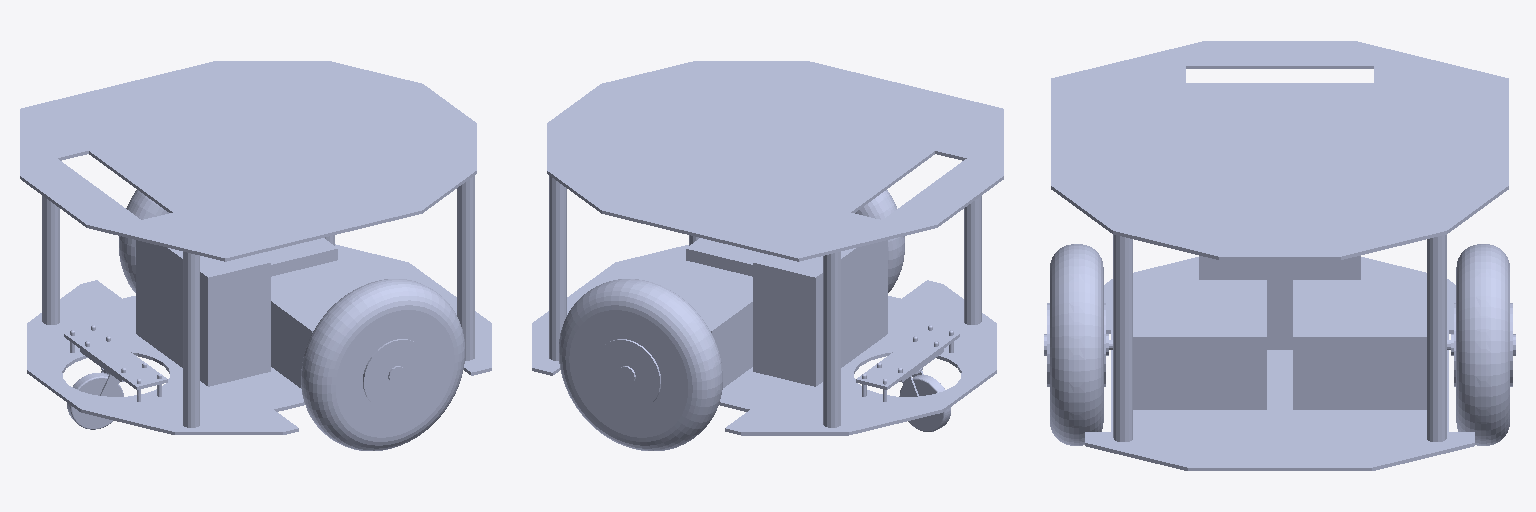
URDF robot description (mobilerobot):
<?xml version="1.0" encoding="utf-8"?>
<!-- This URDF was automatically created by SolidWorks to URDF Exporter! Originally created by [author] ([email redacted]) 
     Commit Version: 1.6.0-1-g15f4949  Build Version: 1.6.7594.29634
     For more information, please see http://wiki.ros.org/sw_urdf_exporter -->
<robot
  name="mobilerobot">
  <link
    name="base_footprint_link">
    <inertial>
      <origin
        xyz="-0.0036066 5.5174E-07 0.096184"
        rpy="0 0 0" />
      <mass
        value="2.7711" />
      <inertia
        ixx="0.0077982"
        ixy="3.97E-09"
        ixz="-1.2658E-07"
        iyy="0.0082705"
        iyz="1.7767E-08"
        izz="0.013496" />
    </inertial>
    <visual>
      <origin
        xyz="0 0 0"
        rpy="0 0 0" />
      <geometry>
        <mesh
          filename="package://mobilerobot/meshes/base_footprint_link.STL" />
      </geometry>
      <material
        name="">
        <color
          rgba="0.79216 0.81961 0.93333 1" />
      </material>
    </visual>
    <collision>
      <origin
        xyz="0 0 0"
        rpy="0 0 0" />
      <geometry>
        <mesh
          filename="package://mobilerobot/meshes/base_footprint_link.STL" />
      </geometry>
    </collision>
  </link>
  <link
    name="base_link">
    <inertial>
      <origin
        xyz="-0.0036066 5.5174E-07 0.053637"
        rpy="0 0 0" />
      <mass
        value="2.7711" />
      <inertia
        ixx="0.0077982"
        ixy="3.97E-09"
        ixz="-1.2658E-07"
        iyy="0.0082705"
        iyz="1.7767E-08"
        izz="0.013496" />
    </inertial>
    <visual>
      <origin
        xyz="0 0 0"
        rpy="0 0 0" />
      <geometry>
        <mesh
          filename="package://mobilerobot/meshes/base_link.STL" />
      </geometry>
      <material
        name="">
        <color
          rgba="0.79216 0.81961 0.93333 1" />
      </material>
    </visual>
    <collision>
      <origin
        xyz="0 0 0"
        rpy="0 0 0" />
      <geometry>
        <mesh
          filename="package://mobilerobot/meshes/base_link.STL" />
      </geometry>
    </collision>
  </link>
  <joint
    name="base_link_joint"
    type="fixed">
    <origin
      xyz="0 0 0.0425463582228798"
      rpy="0 0 0" />
    <parent
      link="base_footprint_link" />
    <child
      link="base_link" />
    <axis
      xyz="0 0 0" />
  </joint>
  <link
    name="lw_link">
    <inertial>
      <origin
        xyz="-2.4925E-14 -0.024 3.0323E-15"
        rpy="0 0 0" />
      <mass
        value="0.6555" />
      <inertia
        ixx="0.00092301"
        ixy="-6.9389E-18"
        ixz="-6.861E-20"
        iyy="0.0016795"
        iyz="5.1584E-19"
        izz="0.00092301" />
    </inertial>
    <visual>
      <origin
        xyz="0 0 0"
        rpy="0 0 0" />
      <geometry>
        <mesh
          filename="package://mobilerobot/meshes/lw_link.STL" />
      </geometry>
      <material
        name="">
        <color
          rgba="0.79216 0.81961 0.93333 1" />
      </material>
    </visual>
    <collision>
      <origin
        xyz="0 0 0"
        rpy="0 0 0" />
      <geometry>
        <mesh
          filename="package://mobilerobot/meshes/lw_link.STL" />
      </geometry>
    </collision>
  </link>
  <joint
    name="lw_joint"
    type="continuous">
    <origin
      xyz="0.028202 0.175 0.033"
      rpy="0 0 0" />
    <parent
      link="base_link" />
    <child
      link="lw_link" />
    <axis
      xyz="0 1 0" />
  </joint>
  <link
    name="rw_link">
    <inertial>
      <origin
        xyz="4.996E-14 0.024 -1.2434E-14"
        rpy="0 0 0" />
      <mass
        value="0.6555" />
      <inertia
        ixx="0.00092301"
        ixy="-7.1557E-18"
        ixz="-6.861E-20"
        iyy="0.0016795"
        iyz="4.4977E-19"
        izz="0.00092301" />
    </inertial>
    <visual>
      <origin
        xyz="0 0 0"
        rpy="0 0 0" />
      <geometry>
        <mesh
          filename="package://mobilerobot/meshes/rw_link.STL" />
      </geometry>
      <material
        name="">
        <color
          rgba="0.79216 0.81961 0.93333 1" />
      </material>
    </visual>
    <collision>
      <origin
        xyz="0 0 0"
        rpy="0 0 0" />
      <geometry>
        <mesh
          filename="package://mobilerobot/meshes/rw_link.STL" />
      </geometry>
    </collision>
  </link>
  <joint
    name="rw_joint"
    type="continuous">
    <origin
      xyz="0.028202 -0.175 0.033"
      rpy="0 0 0" />
    <parent
      link="base_link" />
    <child
      link="rw_link" />
    <axis
      xyz="0 1 0" />
  </joint>
  <link
    name="caster_back_link">
    <inertial>
      <origin
        xyz="0.001251 0.0089126 -6.9389E-18"
        rpy="0 0 0" />
      <mass
        value="0.018145" />
      <inertia
        ixx="2.7833E-06"
        ixy="3.3411E-07"
        ixz="-2.6801E-22"
        iyy="5.1167E-06"
        iyz="-2.6817E-21"
        izz="2.7364E-06" />
    </inertial>
    <visual>
      <origin
        xyz="0 0 0"
        rpy="0 0 0" />
      <geometry>
        <mesh
          filename="package://mobilerobot/meshes/caster_back_link.STL" />
      </geometry>
      <material
        name="">
        <color
          rgba="0.79216 0.81961 0.93333 1" />
      </material>
    </visual>
    <collision>
      <origin
        xyz="0 0 0"
        rpy="0 0 0" />
      <geometry>
        <mesh
          filename="package://mobilerobot/meshes/caster_back_link.STL" />
      </geometry>
    </collision>
  </link>
  <joint
    name="caster_back_joint"
    type="continuous">
    <origin
      xyz="-0.15995 -0.0063367 -0.018546"
      rpy="0 0 0" />
    <parent
      link="base_link" />
    <child
      link="caster_back_link" />
    <axis
      xyz="-0.139 -0.99029 0" />
  </joint>
</robot>

--- What the picture shows (computed from the rendered views, not written in the file) ---
Views: 3 orthographic renders of the robot side by side, from view 1: azimuth 30°, elevation 25°; view 2: azimuth 150°, elevation 25°; view 3: azimuth 270°, elevation 25°.
Robot: mobilerobot — 5 links, 4 joints (3 continuous, 1 fixed); root link base_footprint_link; default pose: all joints at 0.
Visible links, largest first — view 1: base_footprint_link, rw_link, base_link, lw_link, caster_back_link; view 2: base_footprint_link, lw_link, base_link, rw_link, caster_back_link; view 3: base_footprint_link, base_link, lw_link, rw_link.
Boxes of the visible links, x1,y1,x2,y2 form: base_footprint_link: (20,61,491,434); rw_link: (301,279,464,450); base_link: (42,197,378,426); lw_link: (119,190,168,292); caster_back_link: (67,373,123,429); base_footprint_link: (532,61,1003,435); lw_link: (559,279,722,450); base_link: (549,176,981,427); rw_link: (855,190,904,292); caster_back_link: (899,375,950,431); base_footprint_link: (1051,41,1508,470); base_link: (1133,238,1450,441); lw_link: (1451,244,1515,445); rw_link: (1044,244,1108,445).
Size in the robot's own frame: 0.38 by 0.35 by 0.2185 metres.
5 mesh visuals loaded from 5 distinct referenced files (5 binary STL).